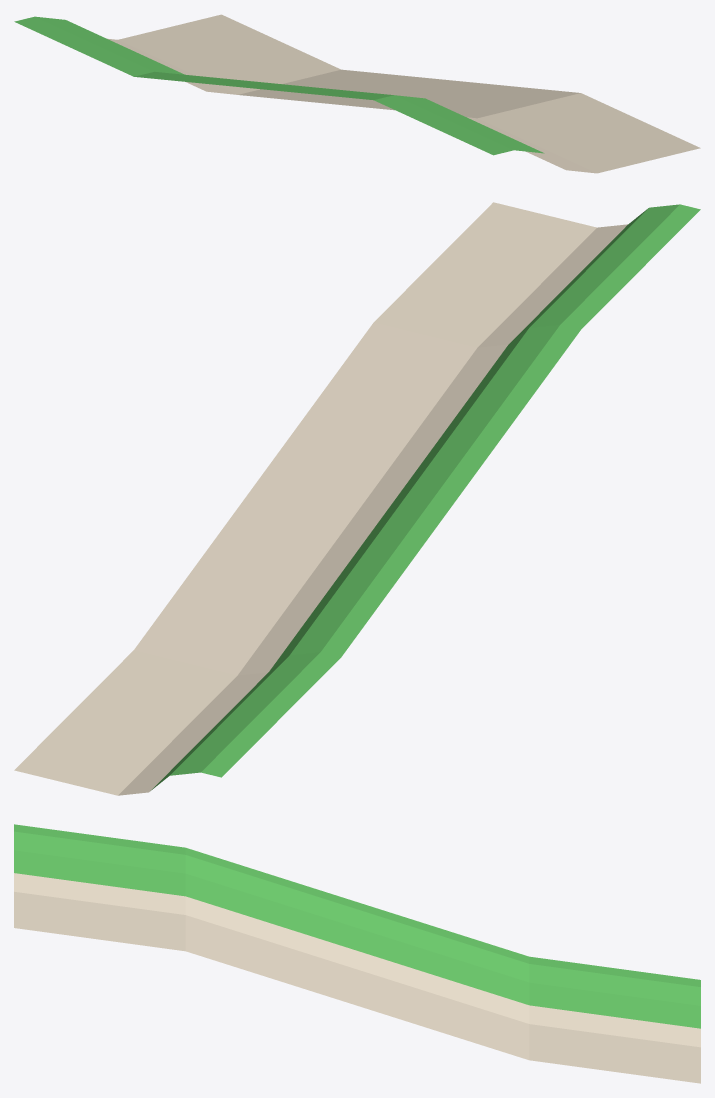
The model's file is Hilly_Terrain_Path_Hill_Gentle_Plain_Side.glb.
3 views of the same model, one above another, from view 1: azimuth 30°, elevation 25°; view 2: azimuth 150°, elevation 25°; view 3: azimuth 270°, elevation 25° (orthographic). The views are drawn at different scales.
Visible parts, largest first — view 1: Hilly_Terrain_Path_Hill_Gentle_Plain_Side; view 2: Hilly_Terrain_Path_Hill_Gentle_Plain_Side; view 3: Hilly_Terrain_Path_Hill_Gentle_Plain_Side.
Part boxes in pixels (bbox=[...]): Hilly_Terrain_Path_Hill_Gentle_Plain_Side: bbox=[14, 14, 700, 173]; Hilly_Terrain_Path_Hill_Gentle_Plain_Side: bbox=[14, 202, 700, 795]; Hilly_Terrain_Path_Hill_Gentle_Plain_Side: bbox=[14, 824, 700, 1083].
Size of the model in its own units: 1 by 1.2 by 4.
